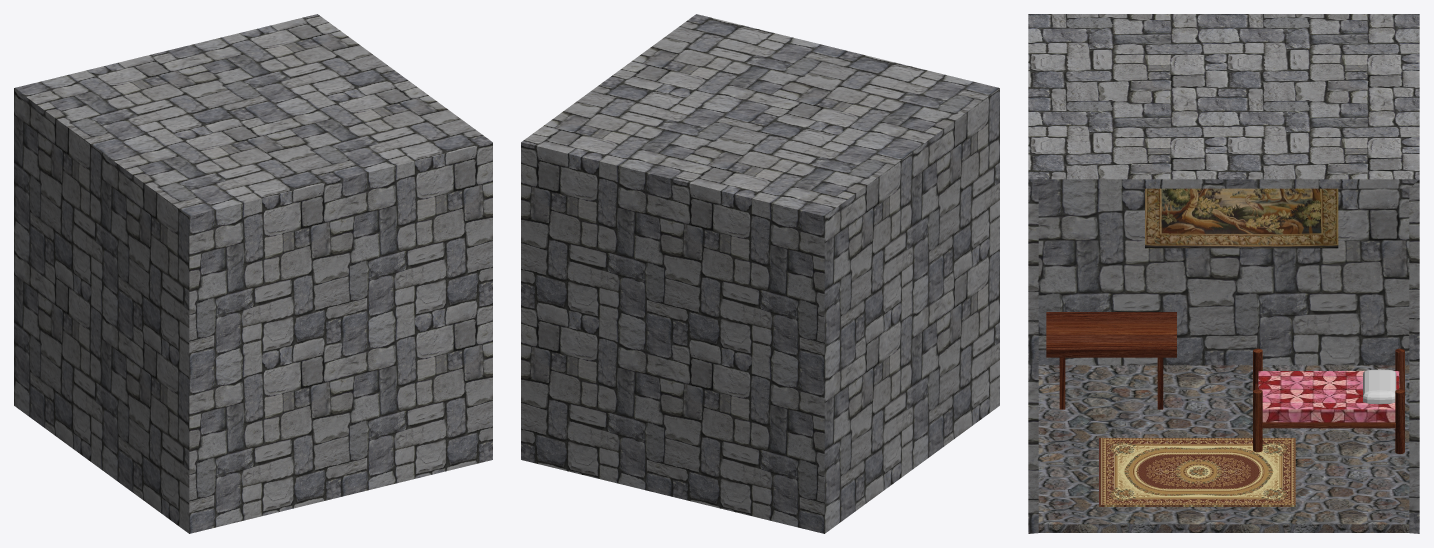
The model's file is RoomBed.dae.
3 renders of one model, left to right at view 1: azimuth 30°, elevation 25°; view 2: azimuth 150°, elevation 25°; view 3: azimuth 270°, elevation 25°, orthographic. The views are drawn at different scales.
Visible parts, largest first — view 1: Walls; view 2: Walls; view 3: Walls, Floor, Cube_001, Cube, table, mattress, frame, pillow.
Boxes of the visible parts, bbox=[...] form: Walls: bbox=[14, 14, 492, 533]; Walls: bbox=[521, 14, 999, 533]; Walls: bbox=[1028, 14, 1419, 533]; Floor: bbox=[1038, 365, 1409, 532]; Cube_001: bbox=[1099, 438, 1295, 506]; Cube: bbox=[1145, 188, 1338, 248]; table: bbox=[1046, 312, 1176, 409]; mattress: bbox=[1258, 371, 1399, 422]; frame: bbox=[1253, 348, 1404, 453]; pillow: bbox=[1363, 369, 1396, 404].
Bounding box in the file's own units: 10 × 10 × 10.02.
8 materials, 8 textured.
